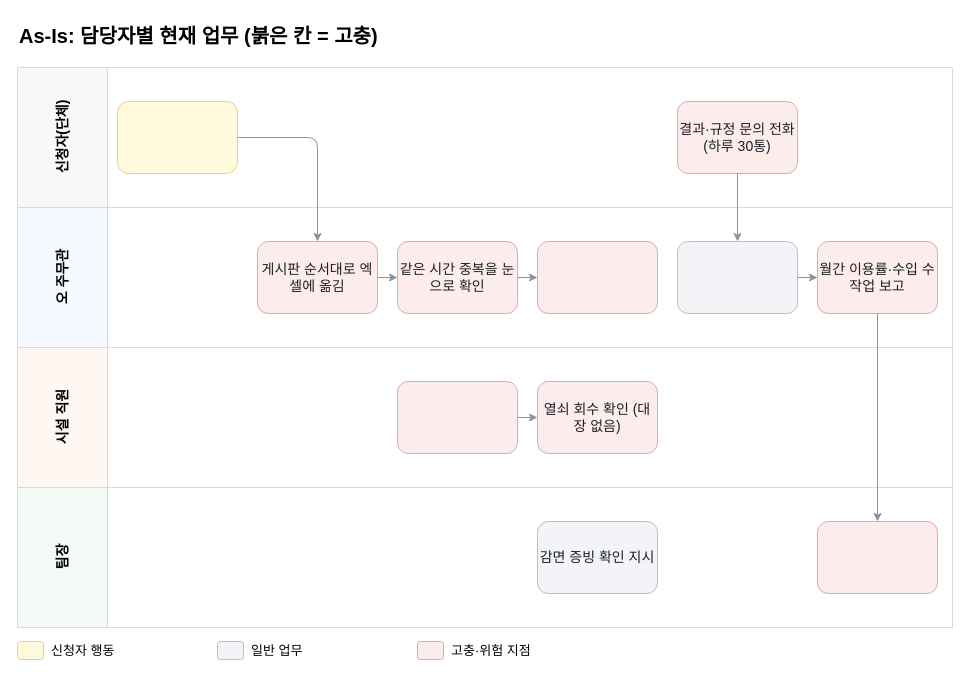
This 970x677 diagram has some shape labels left out. Each missing label, with the box of its shape:
감사: 선정 이유 설명 어려움: (816, 520, 938, 594)
게시판에 신청 글 (1일 9시, 약 50건): (116, 100, 238, 174)
규정 80쪽 보고 요금·감면 판단: (536, 240, 658, 314)
이용 후 점검 (누가 썼는지 기록 없음): (396, 380, 518, 454)
전화 응대: (676, 240, 798, 314)
